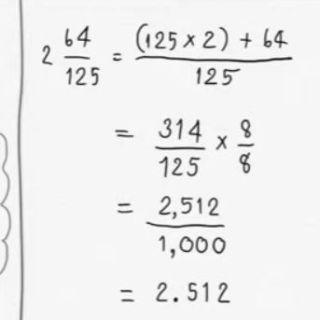.: (171, 294, 180, 306)
0: (178, 235, 194, 253), (212, 236, 226, 254), (195, 235, 208, 254)
1: (157, 155, 169, 179), (176, 117, 184, 142), (202, 280, 210, 303), (158, 234, 166, 253), (196, 196, 203, 216), (66, 67, 73, 84), (196, 66, 202, 85), (145, 33, 151, 50)
2: (158, 193, 172, 216), (202, 67, 218, 86), (202, 30, 217, 50), (217, 281, 230, 304), (40, 44, 54, 65), (156, 280, 168, 304), (75, 66, 88, 87), (154, 30, 167, 50), (171, 157, 184, 176), (207, 197, 220, 216)
3: (158, 116, 173, 140)
4: (76, 24, 92, 48), (188, 119, 203, 143), (273, 30, 289, 50)
5: (220, 67, 242, 86), (186, 156, 200, 176), (180, 196, 194, 214), (90, 66, 101, 87), (168, 31, 178, 53), (187, 282, 198, 302)
6: (262, 26, 273, 50), (64, 27, 74, 49)
8: (238, 151, 252, 174), (240, 118, 252, 139)
